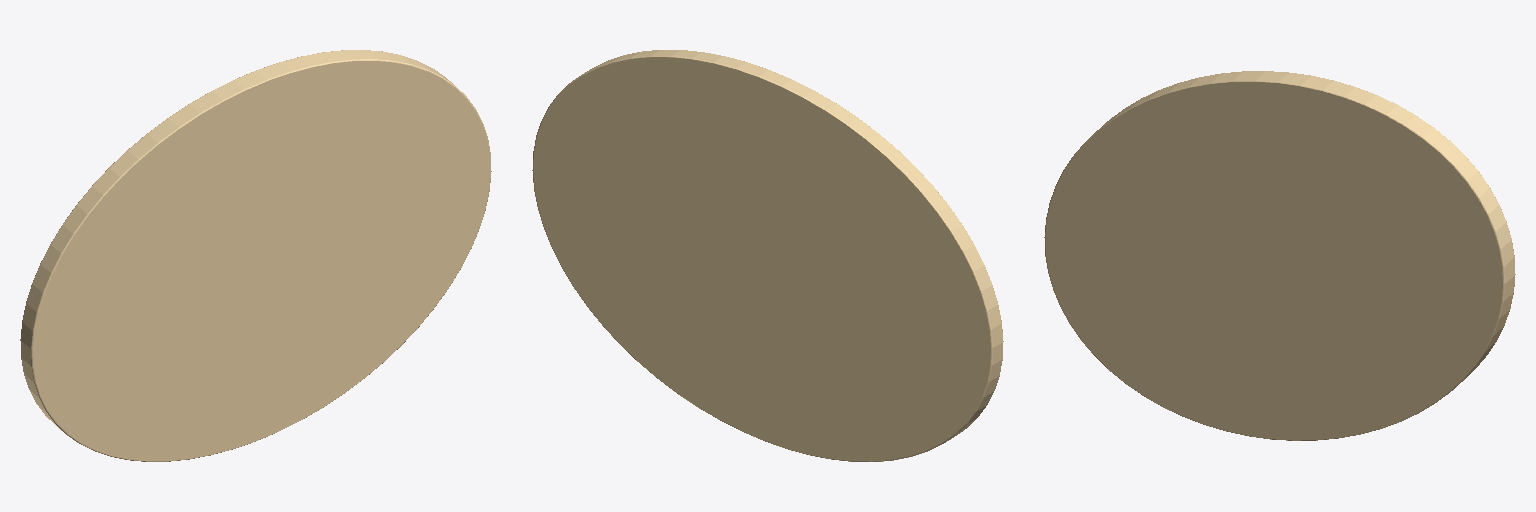
robot.urdf — dough:
<?xml version="1.0" ?>
<robot name="dough">
  <link name="world"/>
  <joint name="dough_to_world" type="floating">
    <parent link="world"/>
    <child link="dough_link"/>
    <origin xyz="0 0 0" rpy="0 0 0" />
  </joint>
  <link name="dough_link">
    <inertial>
       <origin rpy="0 0 0" xyz="0 0 0"/>
       <mass value="1.0"/> <!-- 根据实际面团的质量调整 -->
       <inertia ixx="0.01" ixy="0" ixz="0" iyx="0" iyy="0.01" iyz="0" izx="0" izy="0" izz="0.01"/> <!-- 根据实际面团的惯性矩调整 -->
    </inertial>
    <visual>
      <origin rpy="0 0 0" xyz="0 0 0"/>
      <geometry> <mesh filename="dough.obj" scale="1.0 1.0 1.0"/> </geometry>
      <material name="dough_color"> <color rgba="0.96 0.87 0.70 1.0"/> </material> <!-- 根据需要调整面团的颜色 -->
    </visual>
    <collision>
      <origin rpy="0 0 0" xyz="0 0 0"/>
      <geometry> <mesh filename="dough.obj" scale="1.0 1.0 1.0"/> </geometry>
    </collision>
  </link>
</robot>

--- What the picture shows (computed from the rendered views, not written in the file) ---
The picture shows the robot from 3 angles, left to right: view 1: azimuth 30°, elevation 25°; view 2: azimuth 150°, elevation 25°; view 3: azimuth 330°, elevation 25°; orthographic projection.
Model dough with 2 links and 1 joints (1 floating), rooted at world, posed all joints at 0.
Links seen in each view (by area): view 1: dough_link; view 2: dough_link; view 3: dough_link.
Link boxes in pixels (x1,y1,x2,y2): dough_link: [20, 50, 491, 461]; dough_link: [532, 50, 1003, 461]; dough_link: [1044, 71, 1515, 440].
Size in the robot's own frame: 0.5014 by 0.0267 by 0.3836 metres.
Meshes: 1 distinct files referenced, 1 mesh visuals loaded (1 OBJ).